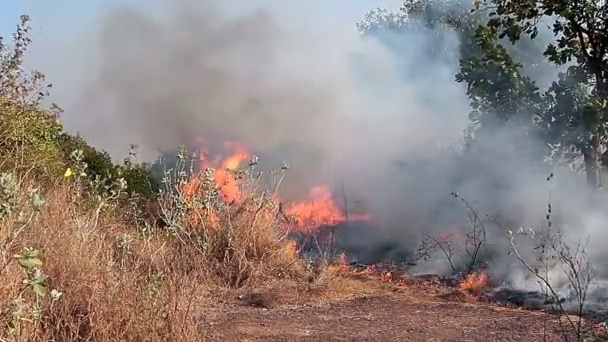fire: (460, 273, 489, 293), (63, 167, 73, 175)
